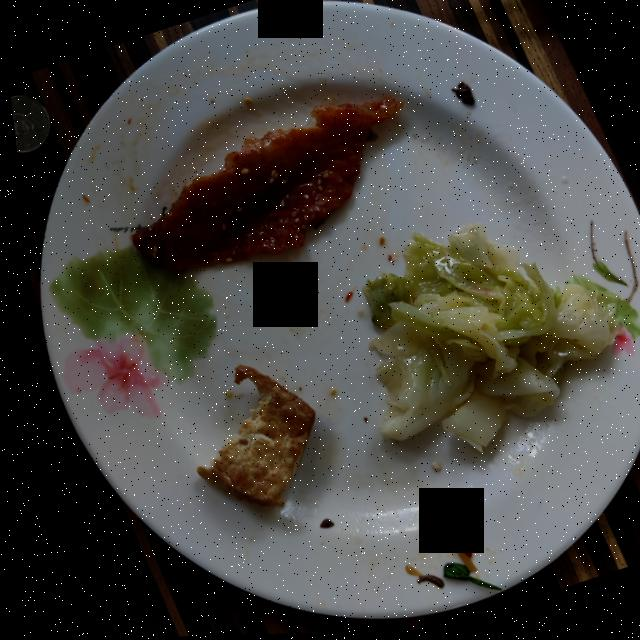Kabayaki sea bream fillet: (126, 99, 399, 271)
cabbage: (356, 226, 611, 453)
coin: (8, 95, 47, 153)
